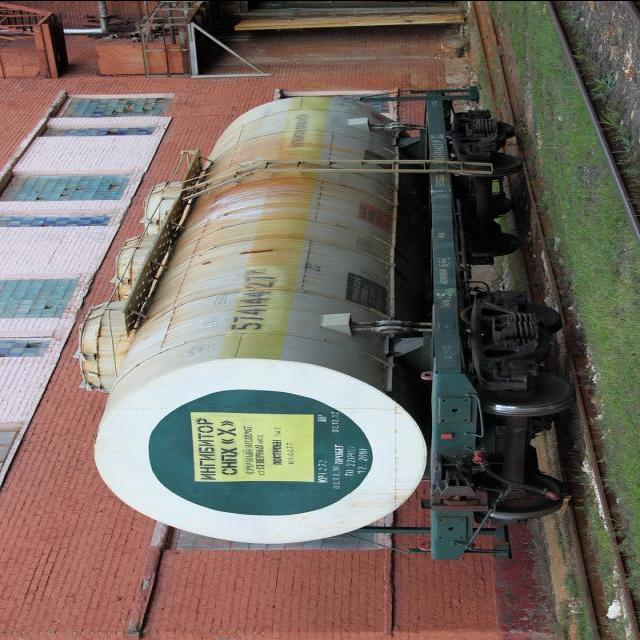wagon: (224, 274, 286, 330)
